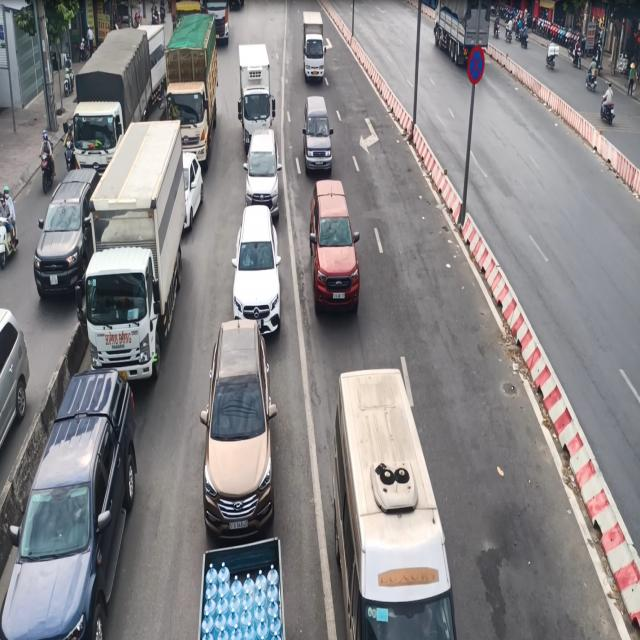car: (207, 320, 287, 528), (232, 200, 293, 344), (303, 175, 362, 308), (302, 88, 339, 173), (247, 124, 276, 209)
truck: (87, 121, 193, 396), (299, 10, 330, 90)
